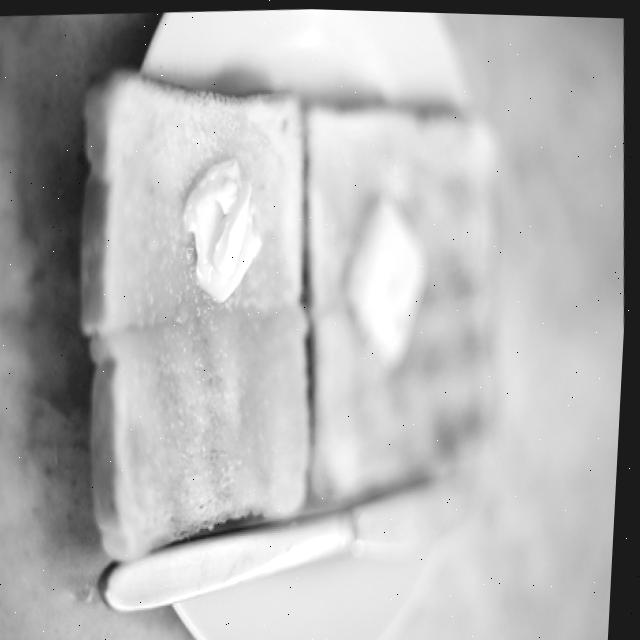面包点心: (0, 23, 589, 612)
